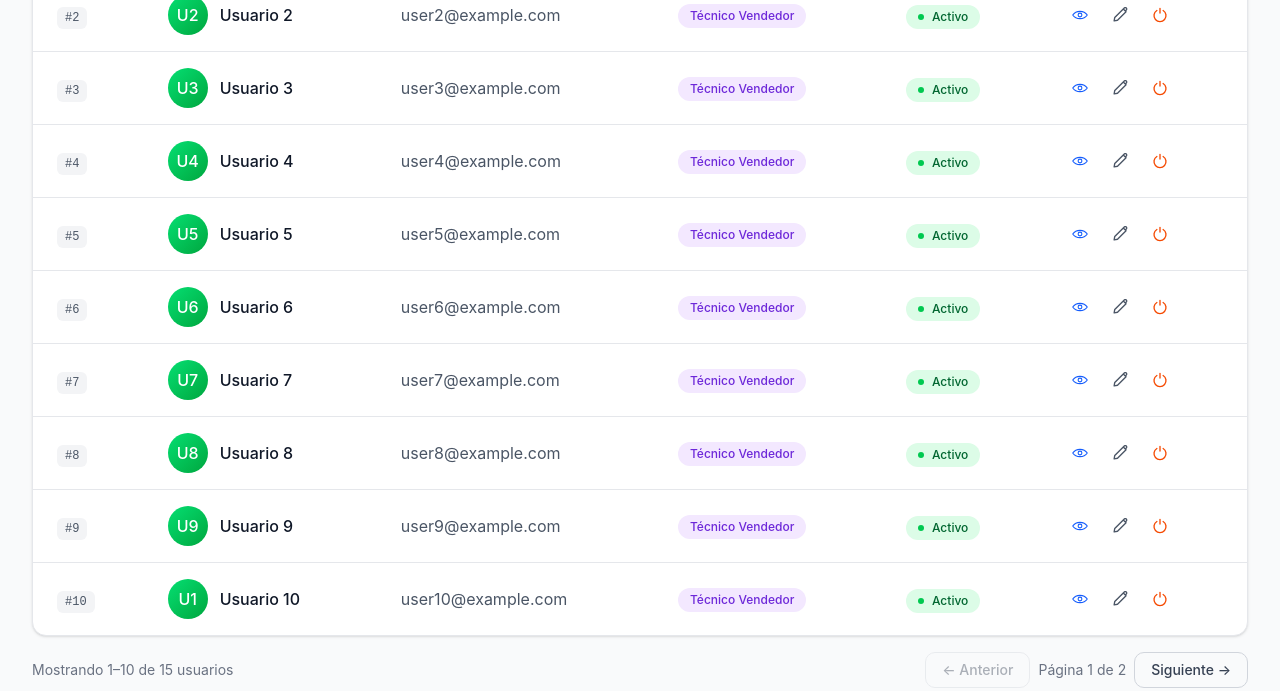
it: GestionUsuariosPanel › resets to page 1 when search filter changes
The width and height of the screenshot is (1280, 691).
(page scrolled)
Click the button with test id "pagination-next".
click(1191, 670)  # box [1134,652,1248,688]
(page scrolled)
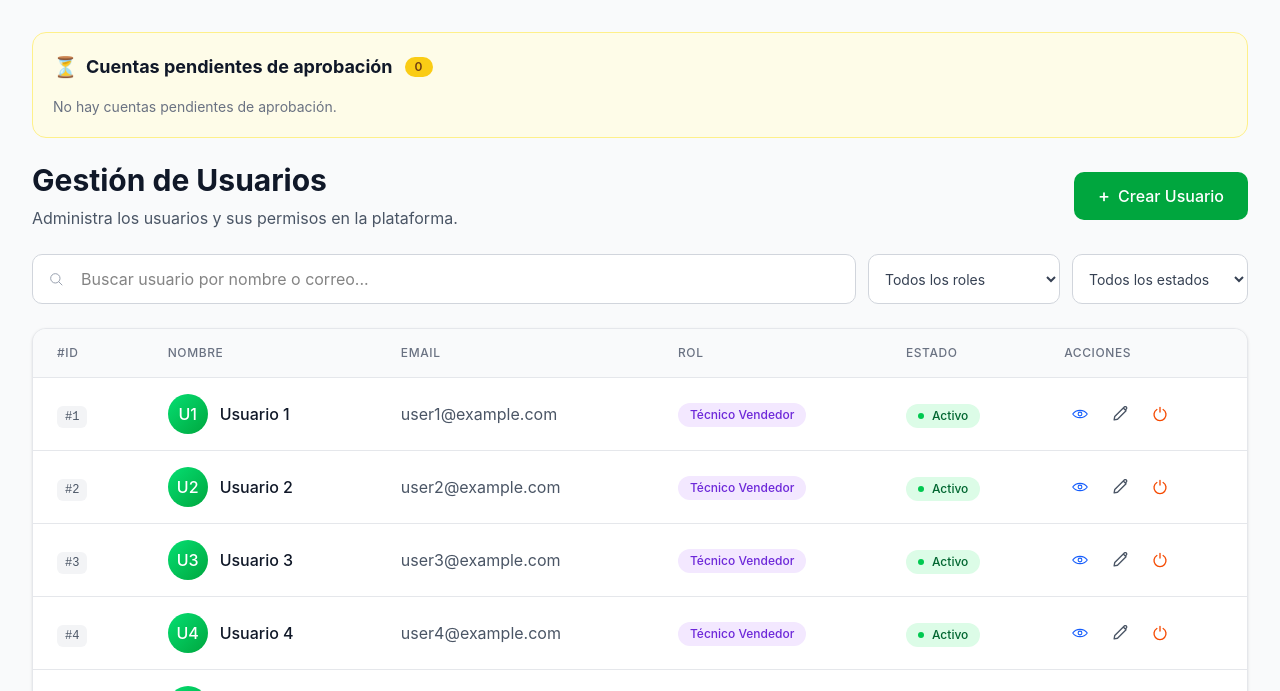
Type "ana" into the field with test id "users-search-input".
click(444, 279); type("ana")  # box [32,254,856,304]
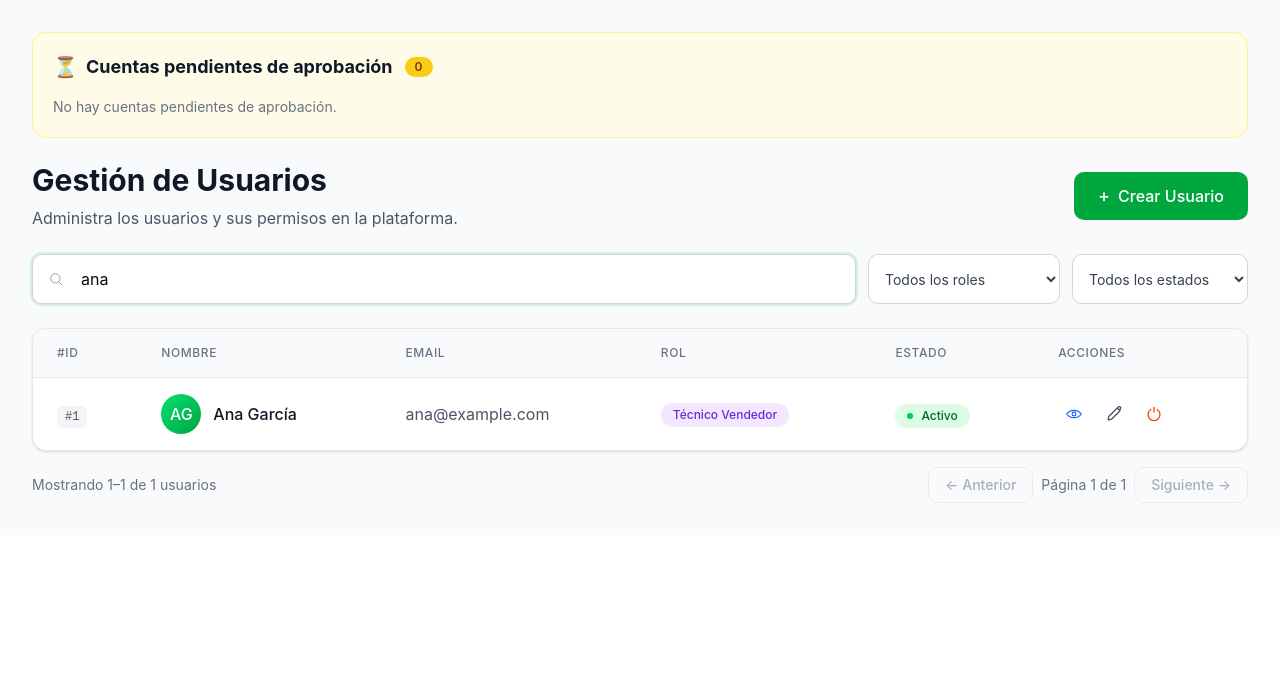
Expected: the text with test id "pagination-info" shows "Página 1", [1041,475,1126,495]
